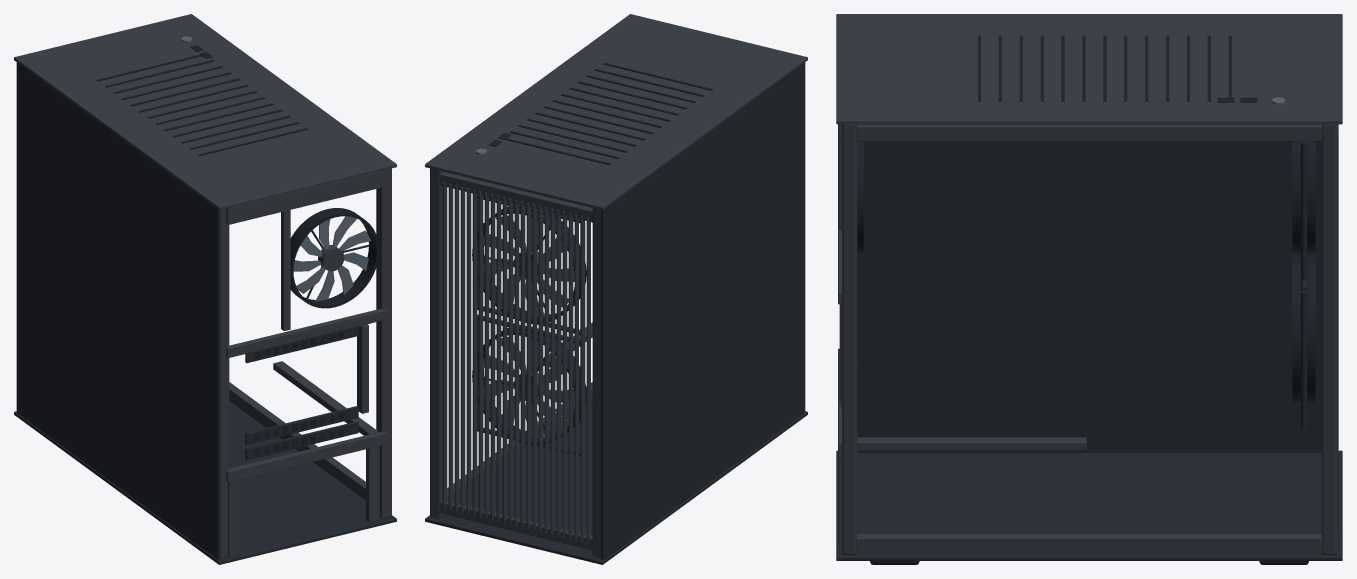
Rendered from pc-case.glb.
3 renders of one model, left to right at view 1: azimuth 30°, elevation 25°; view 2: azimuth 150°, elevation 25°; view 3: azimuth 270°, elevation 25°, orthographic. The views are drawn at different scales.
Parts seen in each view (by area): view 1: PC_Case_Paint_Charcoal, PC_Case_Paint_Graphite, PC_Case_Plastic_Black, Case_RearFan_Rotor.001; view 2: PC_Case_Paint_Graphite, PC_Case_Paint_Charcoal, PC_Case_Plastic_Black, Case_IntakeFan_01_Rotor.001, Case_IntakeFan_02_Rotor.001; view 3: PC_Case_Paint_Charcoal, PC_Case_Paint_Graphite, PC_Case_Plastic_Black.
Part boxes in pixels (x1,y1,x2,y2): PC_Case_Paint_Charcoal: (14, 62, 396, 564); PC_Case_Paint_Graphite: (14, 14, 396, 558); PC_Case_Plastic_Black: (96, 45, 379, 456); Case_RearFan_Rotor.001: (293, 216, 371, 301); PC_Case_Paint_Graphite: (425, 14, 807, 558); PC_Case_Paint_Charcoal: (425, 62, 807, 564); PC_Case_Plastic_Black: (472, 62, 712, 445); Case_IntakeFan_01_Rotor.001: (483, 337, 574, 438); Case_IntakeFan_02_Rotor.001: (483, 215, 574, 317); PC_Case_Paint_Charcoal: (836, 141, 1342, 560); PC_Case_Paint_Graphite: (836, 14, 1342, 554); PC_Case_Plastic_Black: (841, 35, 1315, 564).
Bounding box in the file's own units: 0.23 × 0.458 × 0.46.
